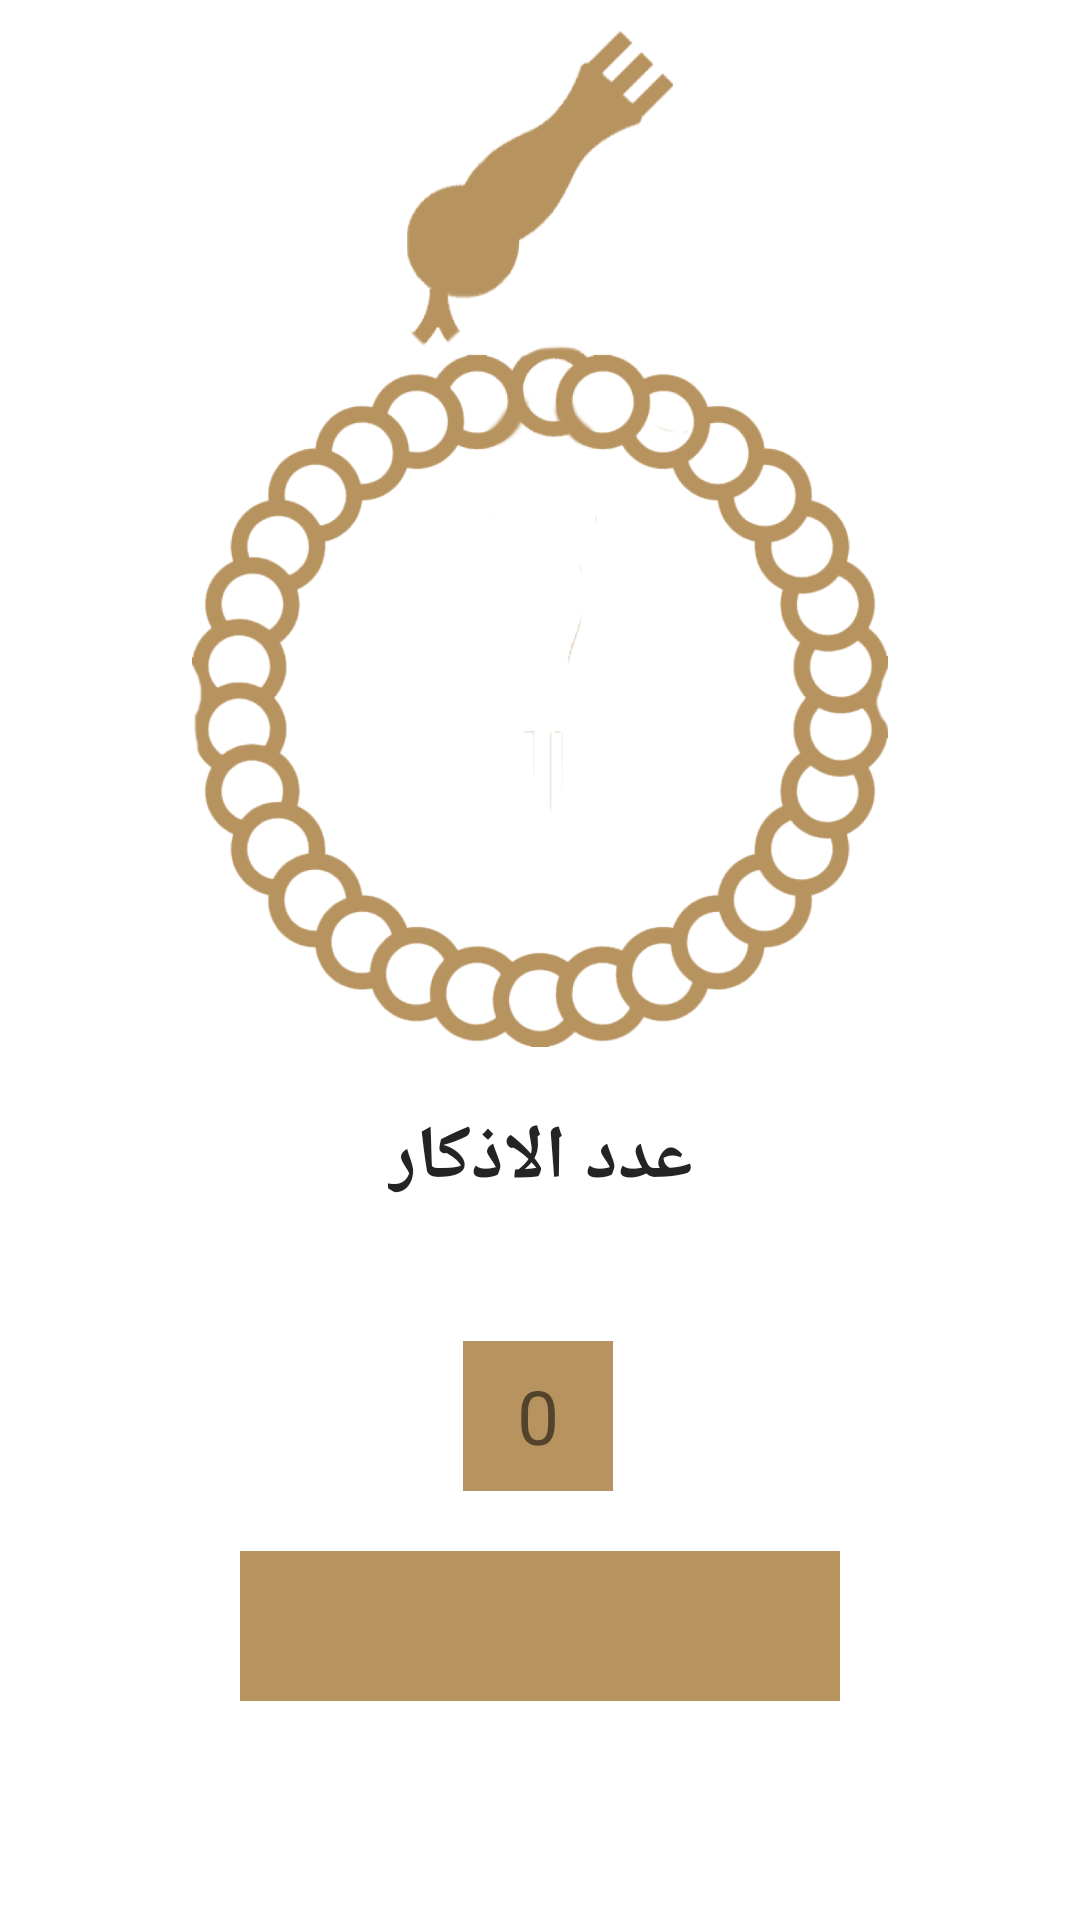

Icon click points for this 1080 × 1920 phone screenshot, format point (x, y):
headofsebha: point (540, 188)
